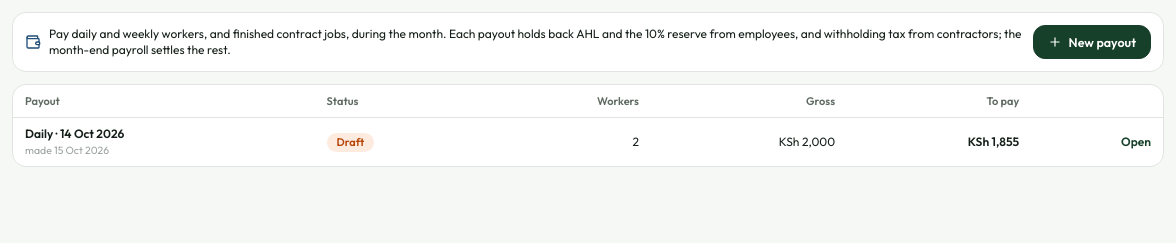
Scenario: reviewing a draft › each holdback and the net per worker, with totals; remove a line
Later steps or results of the test are not shown.
What coordinates should you click on to do the following:
click the button with aria-label "Open Daily payout"
I would click on:
 (1136, 142)
Its box is [1121,134,1151,150].
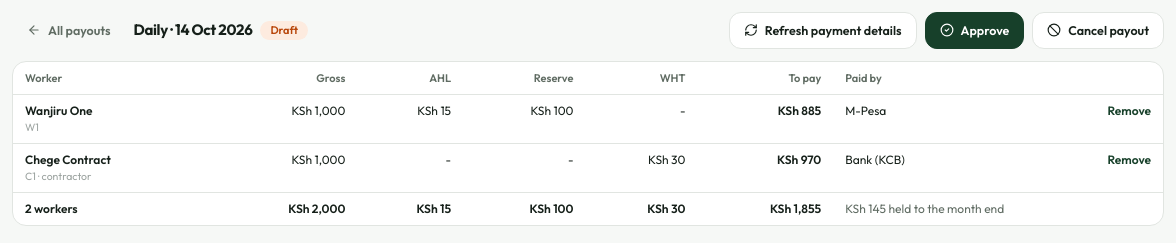
Now the cell named "Wanjiru One to pay" reads "KSh 885", box [778,103,821,118]
Now the cell named "Chege Contract to pay" reads "KSh 970", box [777,152,821,167]
Now the text "KSh 145 held to the month end" is shown, box [833,192,1163,225]
